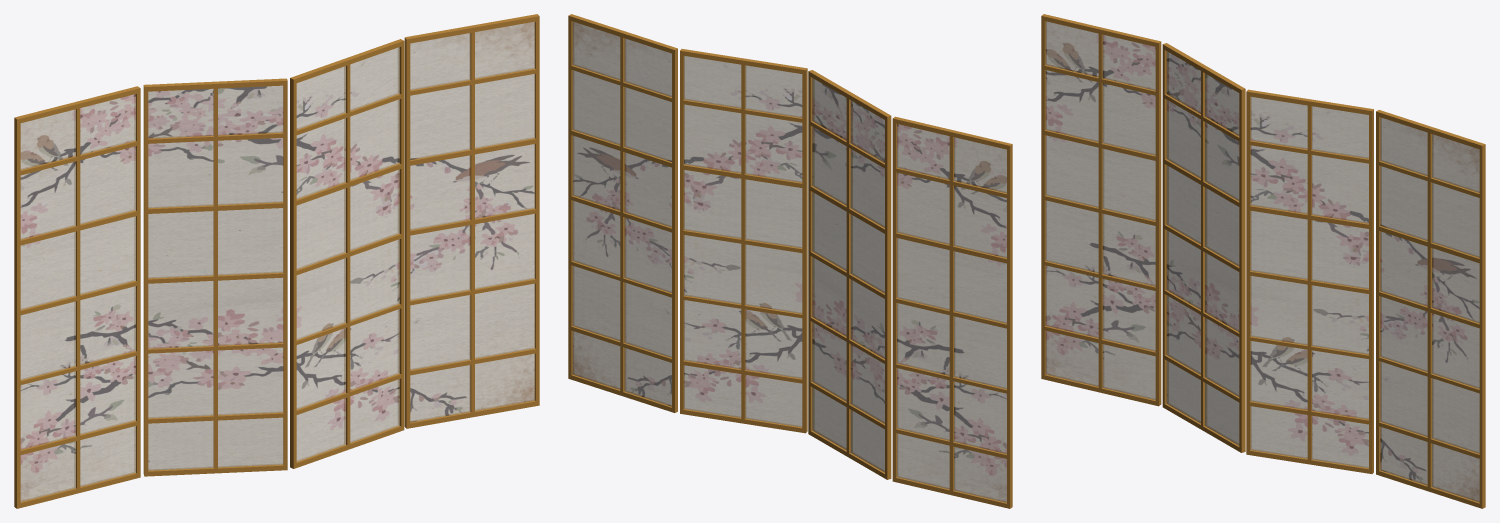
The model's file is shoji screen textured.fbx.
The picture shows the model from 3 angles, left to right: view 1: azimuth 30°, elevation 25°; view 2: azimuth 150°, elevation 25°; view 3: azimuth 330°, elevation 25°; orthographic projection. The views are drawn at different scales.
Visible parts, largest first — view 1: screen_1; view 2: screen_1; view 3: screen_1.
Boxes of the visible parts, x1,y1,x2,y2 form: screen_1: (14,14,539,508); screen_1: (568,14,1012,508); screen_1: (1041,14,1485,508).
Bounding box in the file's own units: 16.98 × 12.68 × 1.91.
